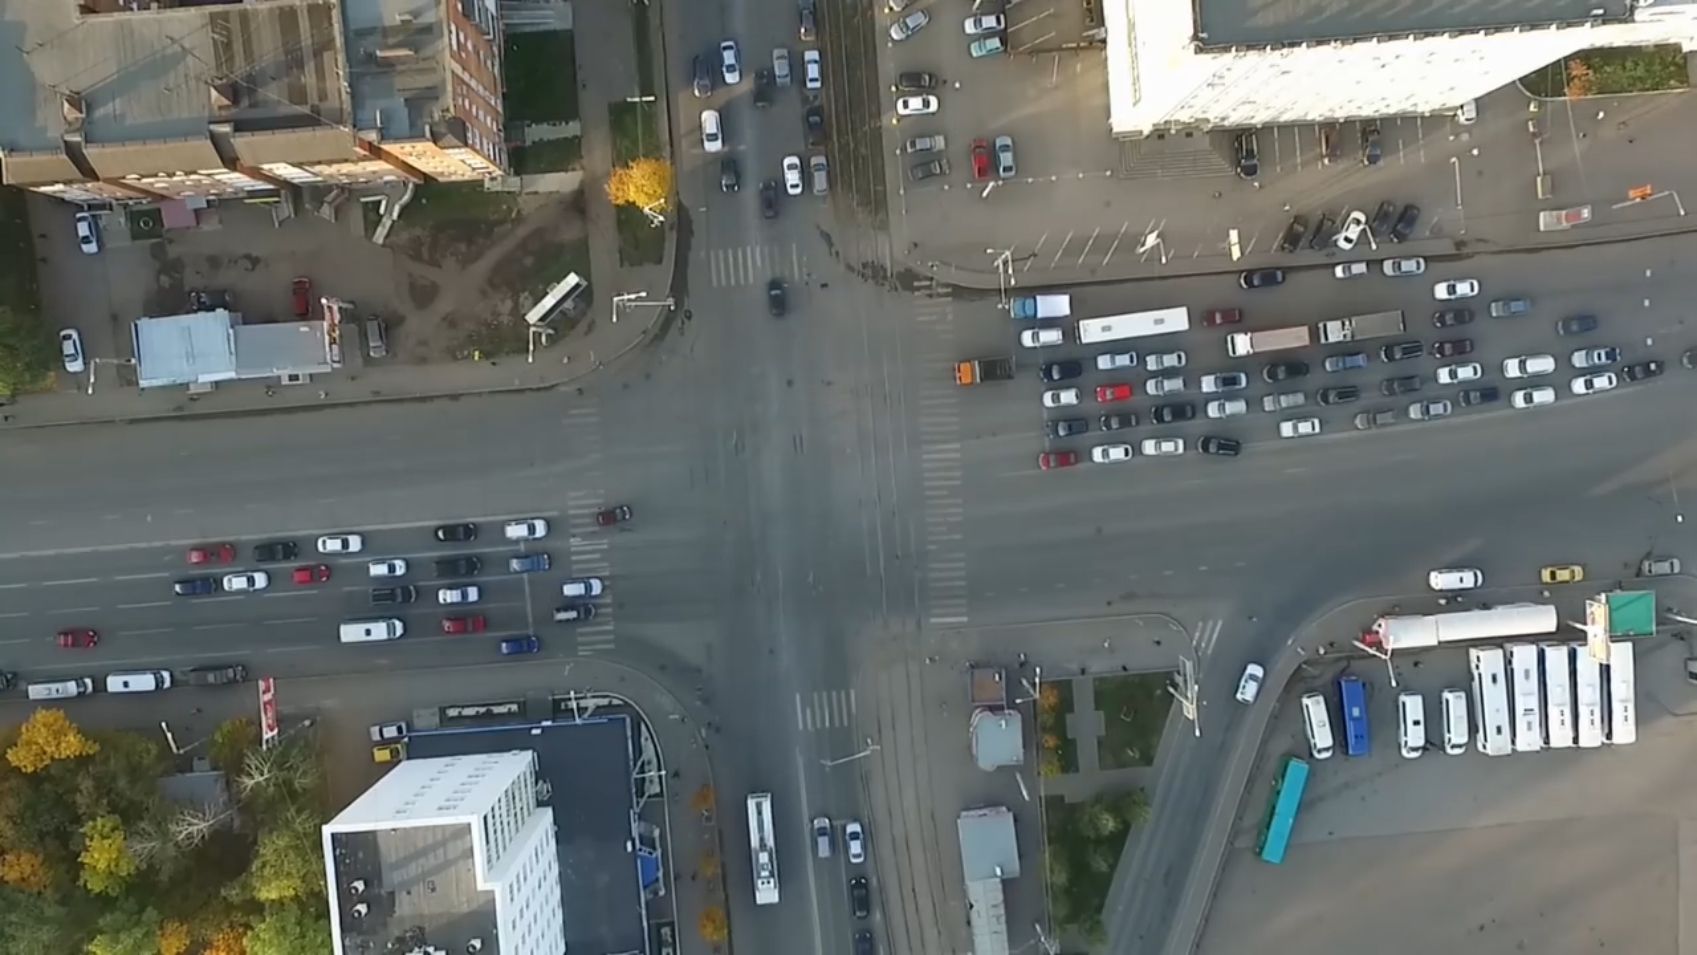car: (1467, 644, 1514, 757), (742, 792, 786, 910), (1068, 306, 1197, 342), (1504, 640, 1544, 752), (1536, 642, 1575, 747), (1599, 645, 1639, 745), (1317, 311, 1411, 345), (1571, 641, 1601, 745), (1339, 674, 1373, 759), (1225, 326, 1311, 357), (1395, 689, 1431, 761), (1296, 694, 1338, 756), (103, 666, 176, 694), (1005, 292, 1075, 319), (1441, 686, 1469, 754), (337, 616, 408, 642), (883, 9, 936, 45), (953, 354, 1018, 384), (1235, 266, 1293, 295), (1425, 566, 1485, 594), (1500, 351, 1558, 379), (183, 538, 239, 567), (184, 662, 245, 689), (1233, 131, 1266, 180), (24, 679, 100, 700), (697, 106, 728, 155), (1234, 665, 1268, 709), (1319, 125, 1349, 174), (251, 538, 303, 564), (1379, 252, 1429, 280), (1013, 325, 1066, 351), (1508, 384, 1559, 410), (1569, 344, 1622, 370), (1570, 370, 1621, 396), (362, 315, 392, 361), (430, 554, 483, 580), (314, 528, 365, 554), (1538, 560, 1590, 585), (355, 583, 404, 610), (56, 330, 86, 373), (1360, 125, 1389, 169), (1335, 208, 1365, 250), (690, 50, 718, 96), (717, 42, 745, 87), (1260, 389, 1311, 414), (1555, 313, 1601, 339), (800, 103, 828, 147), (505, 517, 552, 542), (765, 273, 791, 318), (73, 212, 101, 255), (1323, 351, 1372, 375), (962, 10, 1011, 35), (1038, 357, 1085, 382), (1274, 415, 1325, 438), (770, 44, 796, 91), (1199, 431, 1244, 458), (1281, 212, 1309, 254), (1090, 442, 1138, 466), (1407, 395, 1455, 420), (1149, 401, 1199, 424), (749, 63, 775, 108), (1393, 201, 1420, 244), (590, 506, 638, 529), (1435, 361, 1485, 384), (364, 719, 414, 742), (1430, 278, 1480, 300), (779, 154, 807, 194), (969, 136, 994, 180), (1093, 349, 1140, 372), (174, 573, 220, 596), (895, 69, 939, 93), (1034, 449, 1085, 470), (1090, 380, 1135, 403), (362, 556, 408, 580), (557, 574, 603, 597), (1200, 304, 1248, 326), (1140, 435, 1188, 457), (431, 522, 479, 545), (966, 35, 1009, 59), (1197, 374, 1256, 392), (1438, 335, 1483, 358), (441, 613, 485, 637), (549, 602, 596, 624), (895, 93, 944, 114), (507, 553, 552, 575), (808, 153, 830, 198), (1368, 197, 1392, 240), (1378, 340, 1425, 361), (1378, 375, 1425, 396), (1490, 296, 1530, 321), (1263, 360, 1310, 381), (1353, 408, 1400, 429), (224, 570, 266, 594), (428, 585, 474, 606), (814, 816, 835, 863), (801, 51, 825, 91), (54, 630, 103, 649), (1043, 385, 1080, 410), (851, 876, 873, 919), (1140, 375, 1188, 395), (291, 562, 330, 587), (293, 275, 314, 319), (1431, 308, 1476, 329), (756, 180, 779, 222), (1097, 412, 1143, 431), (1204, 399, 1251, 419), (1456, 387, 1502, 407), (1619, 360, 1666, 380), (1639, 556, 1682, 577), (1314, 210, 1336, 251), (909, 159, 955, 178), (1044, 417, 1090, 437), (997, 135, 1018, 177), (1318, 384, 1360, 405), (369, 744, 411, 765), (1145, 350, 1189, 370), (902, 134, 948, 153), (498, 637, 538, 656), (721, 155, 741, 195), (1330, 260, 1369, 279), (797, 7, 816, 45), (846, 822, 862, 862), (853, 929, 876, 955), (1458, 99, 1478, 125)
